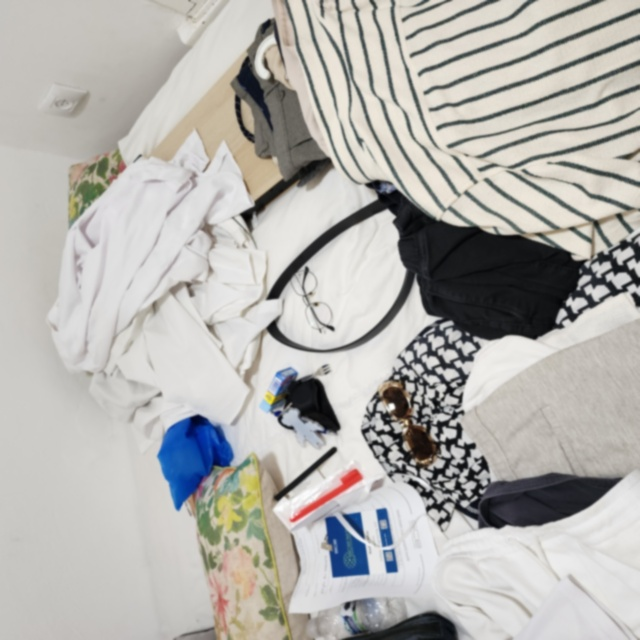glasses: (374, 377, 439, 468), (286, 262, 336, 337)
